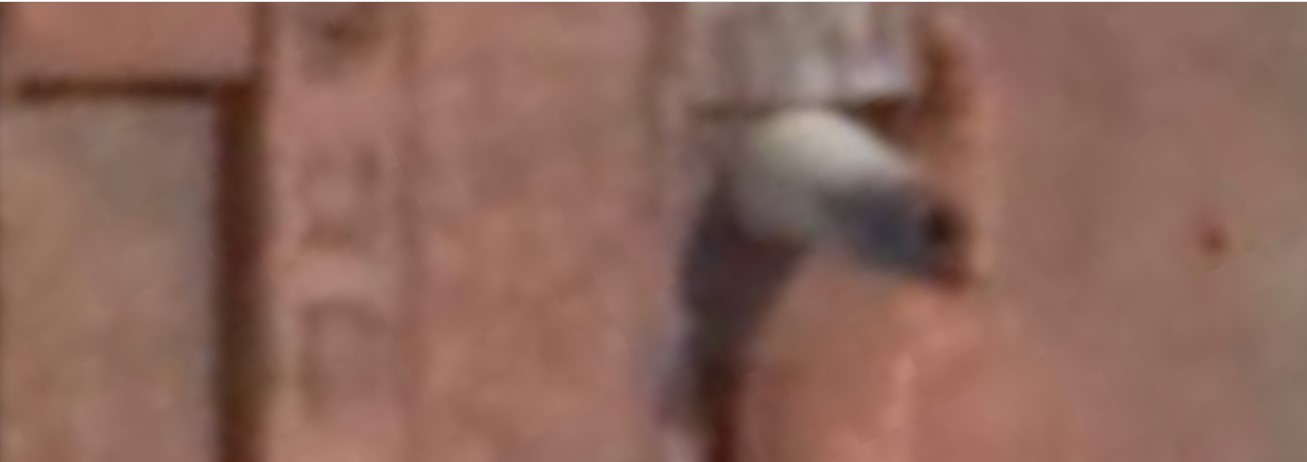kiln: (281, 9, 1163, 456)
